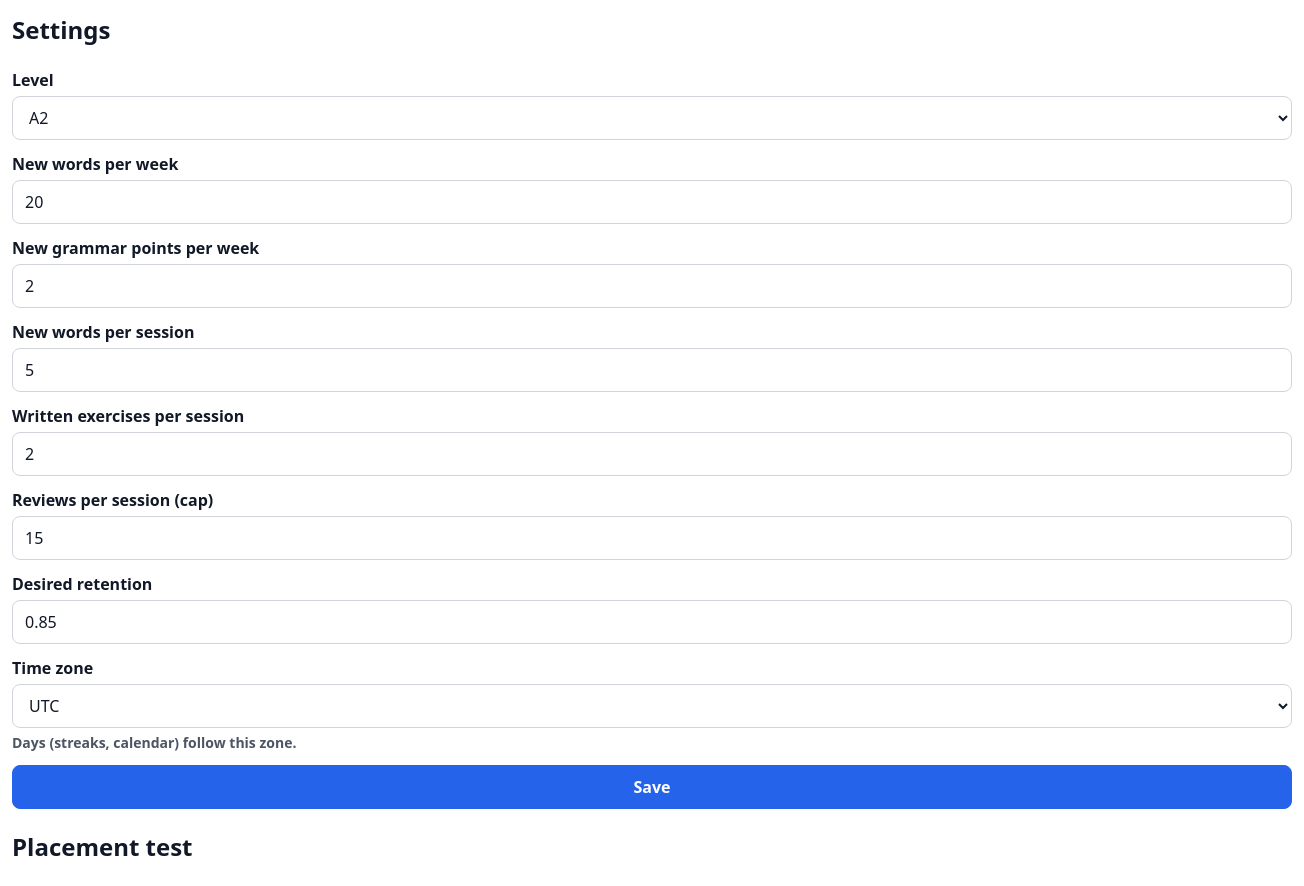
Test: SettingsView › saves level and settings
The image size is (1304, 886).
Select "B1" in the dropdown labelled "Level" at (652, 118), box [12,96,1292,140]
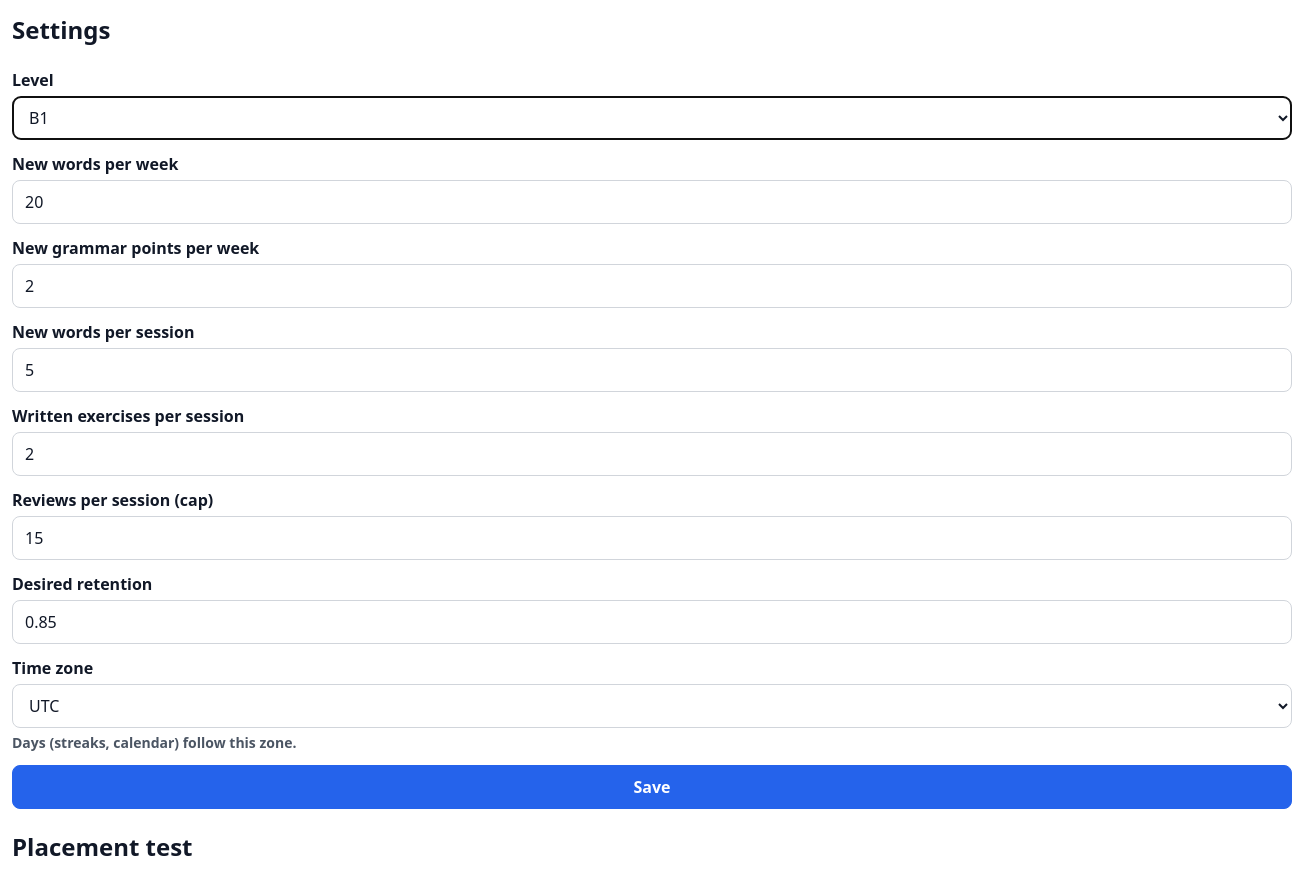
Replace the text in the number field labelled "New words per week" with "30" at (652, 202), box [12,180,1292,224]
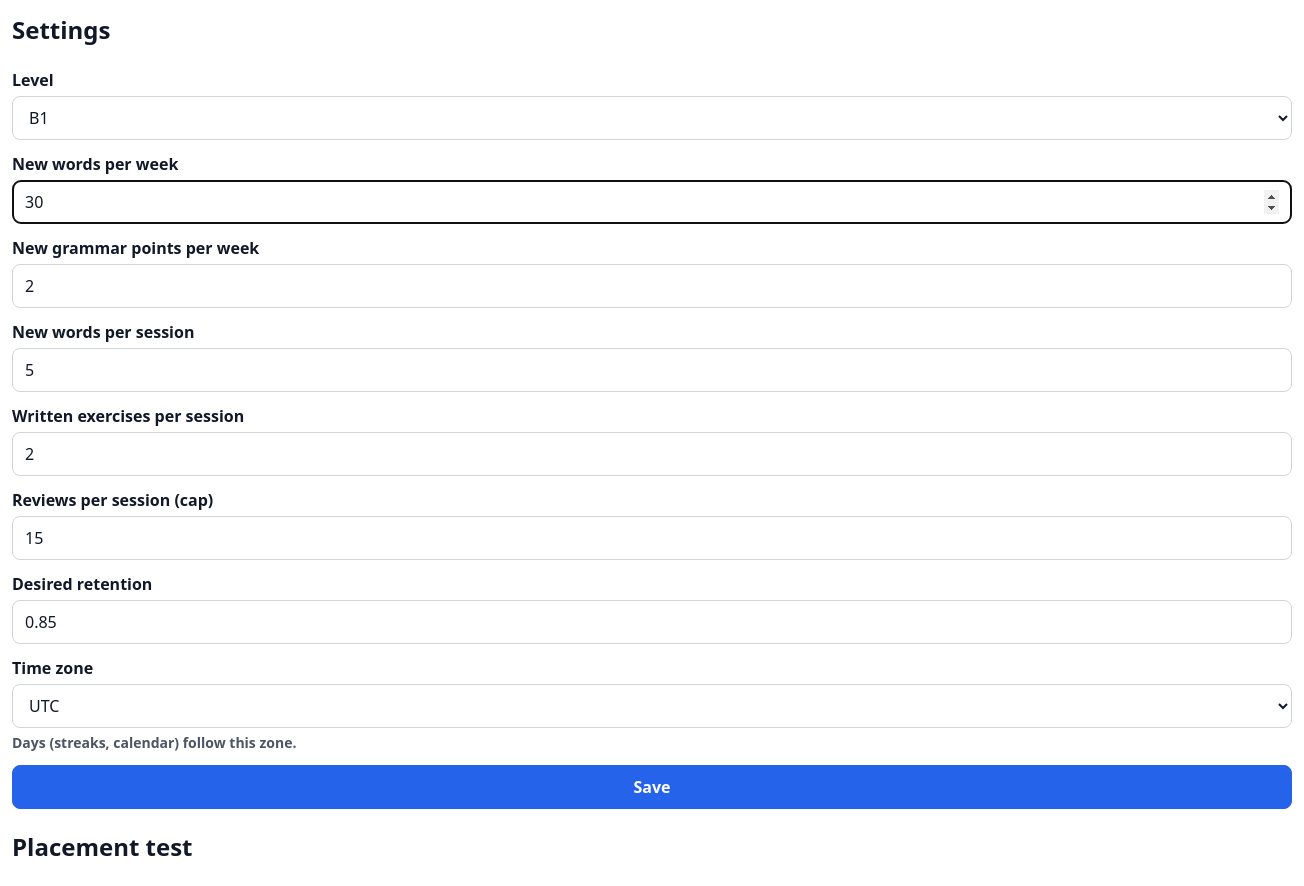
Replace the text in the number field labelled "Written exercises per session" with "3" at (652, 454), box [12,432,1292,476]
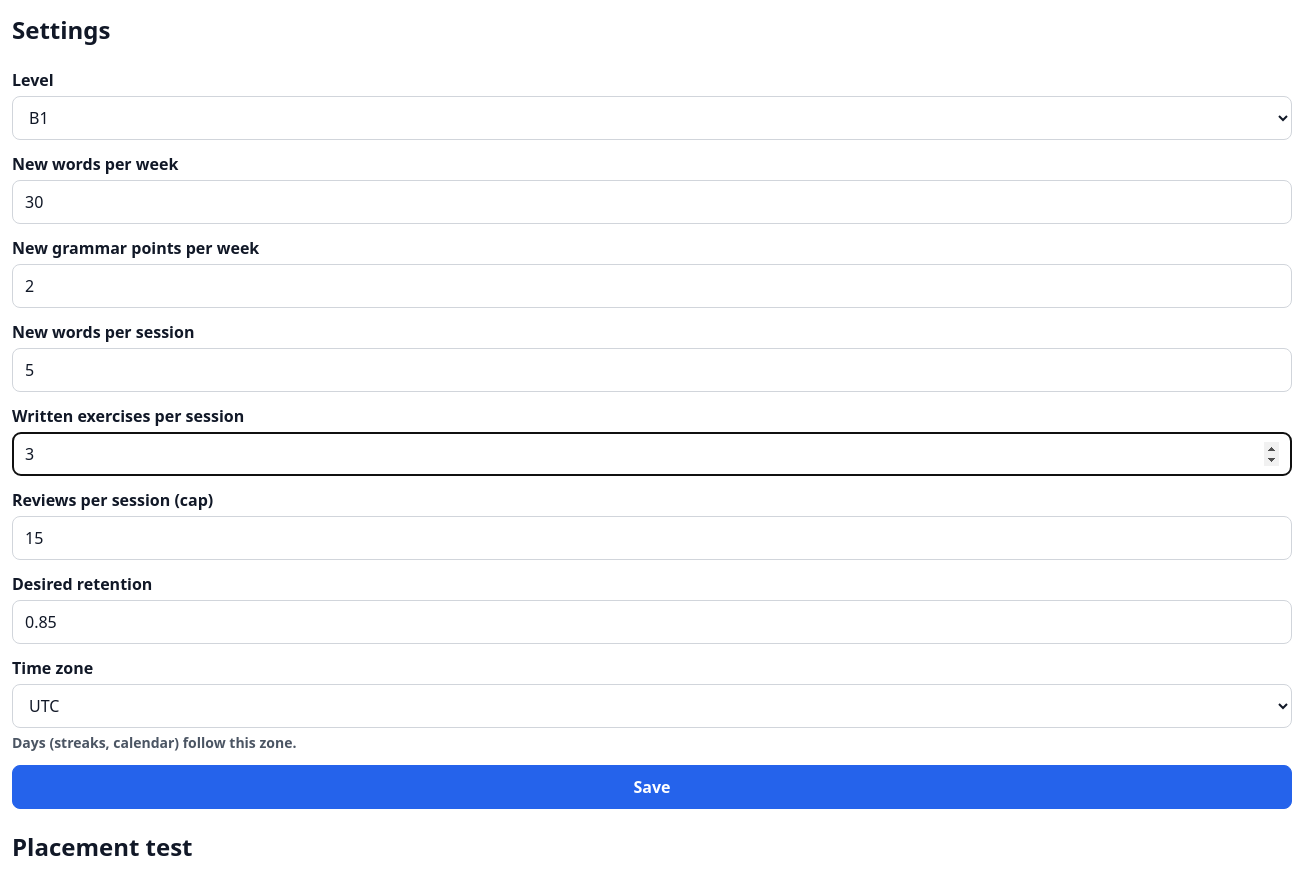
Select "Europe/Rome" in the dropdown labelled "Time zone" at (652, 706), box [12,684,1292,728]
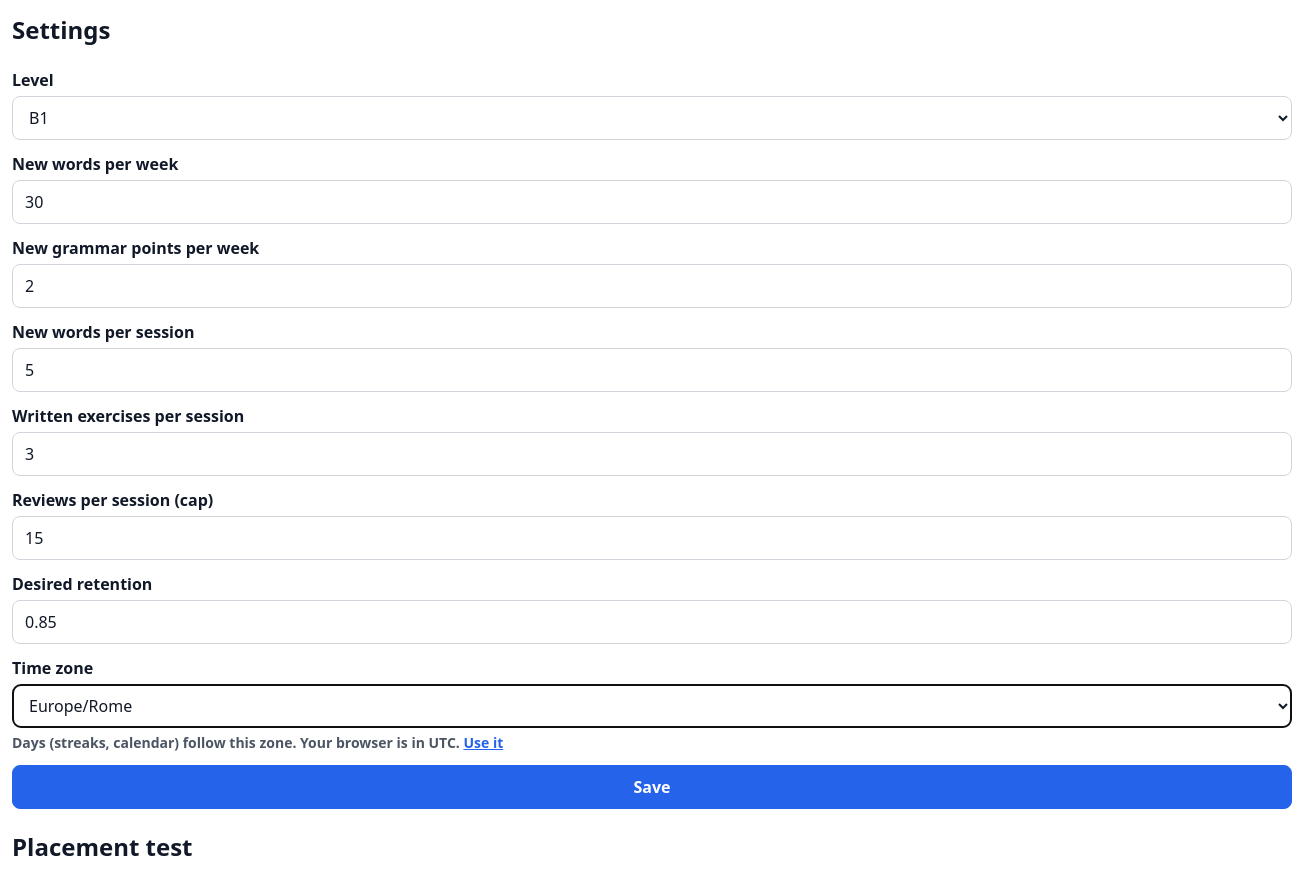
Click the button "Save" at (652, 787), box [12,765,1292,809]
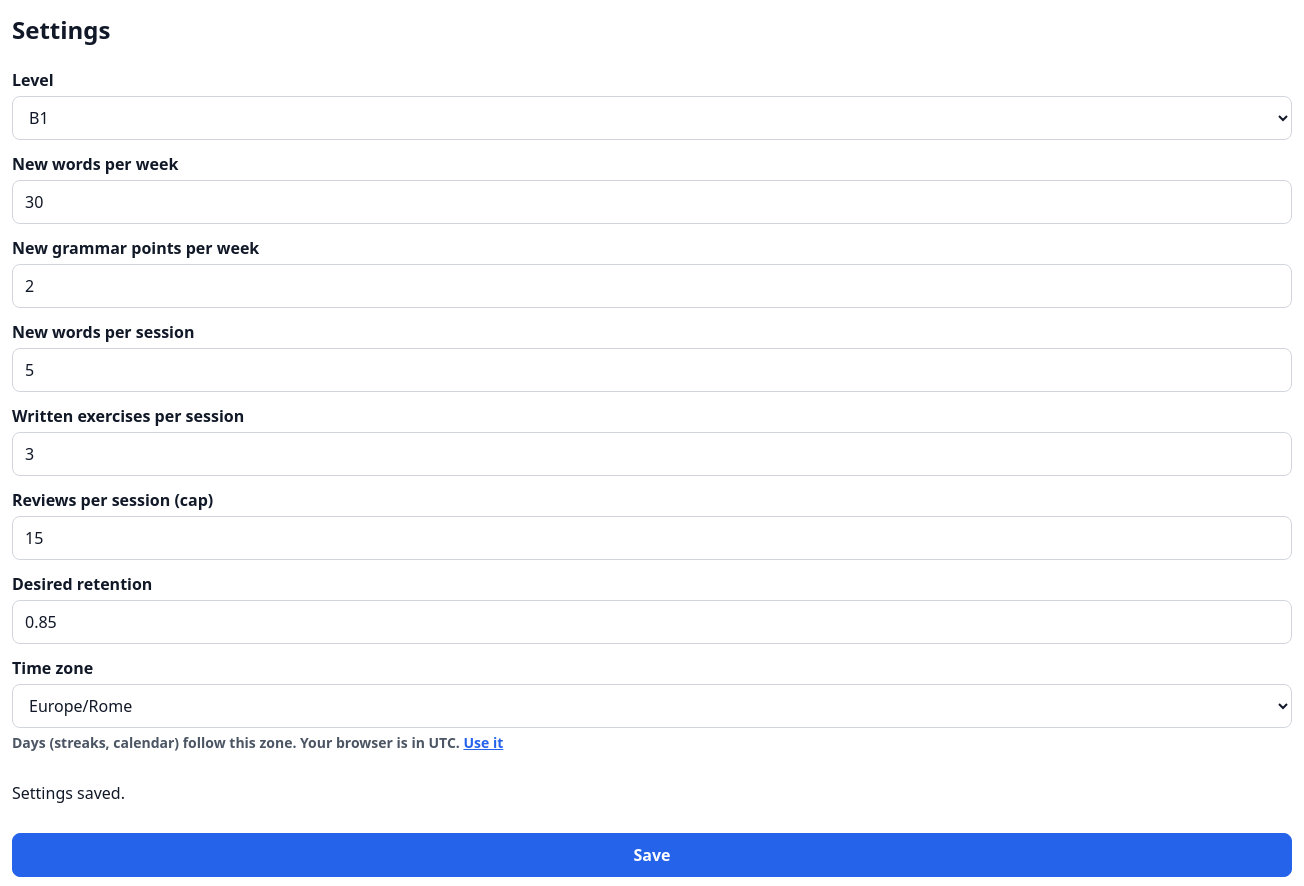
Expected: the text "Settings saved." is shown, [12,782,125,804]
